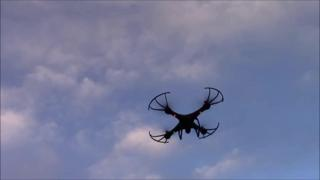UAV: (148, 88, 224, 144)
